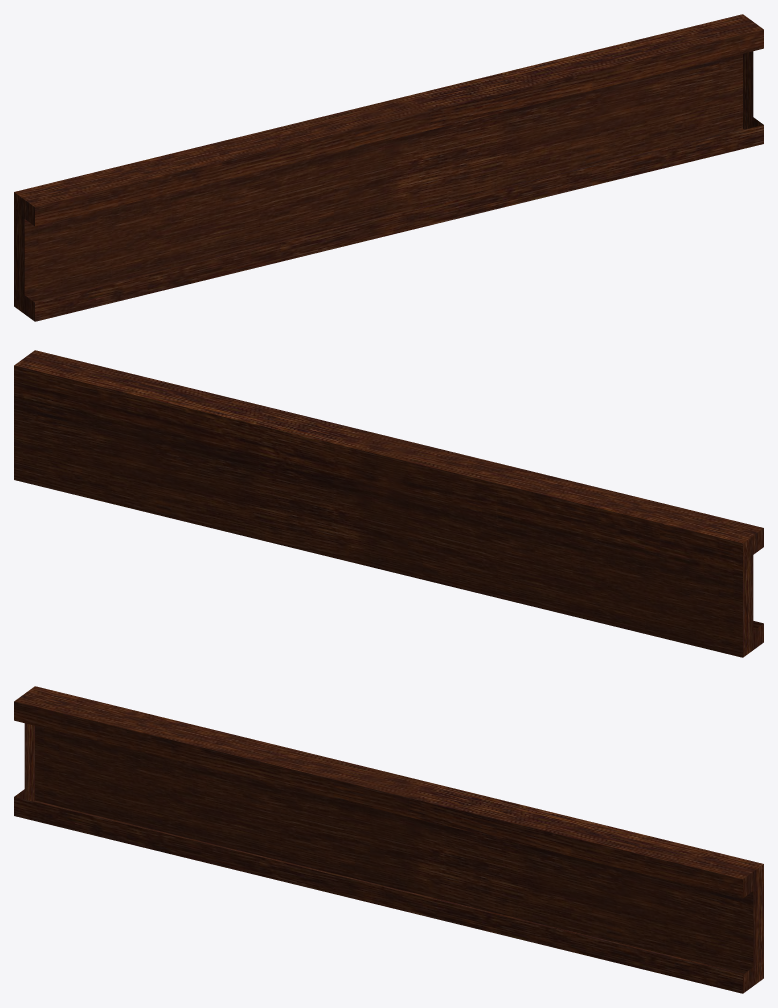
Rendered from border.fbx.
3 renders of one model, top to bottom at view 1: azimuth 30°, elevation 25°; view 2: azimuth 150°, elevation 25°; view 3: azimuth 330°, elevation 25°, orthographic.
Visible parts, largest first — view 1: border; view 2: border; view 3: border.
Boxes of the visible parts, bbox=[...] form: border: bbox=[14, 14, 763, 321]; border: bbox=[14, 350, 763, 657]; border: bbox=[14, 686, 763, 993].
Size of the model in its own units: 400 by 60 by 20.
